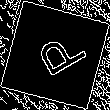P_SW: (24, 26, 86, 84)
